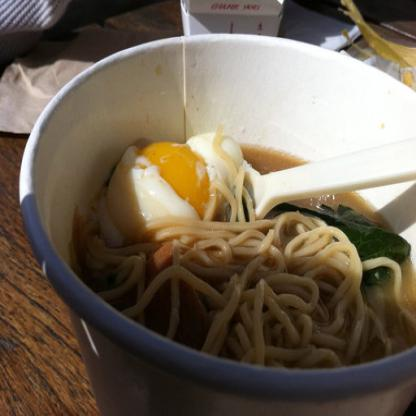egg: (99, 125, 251, 244)
